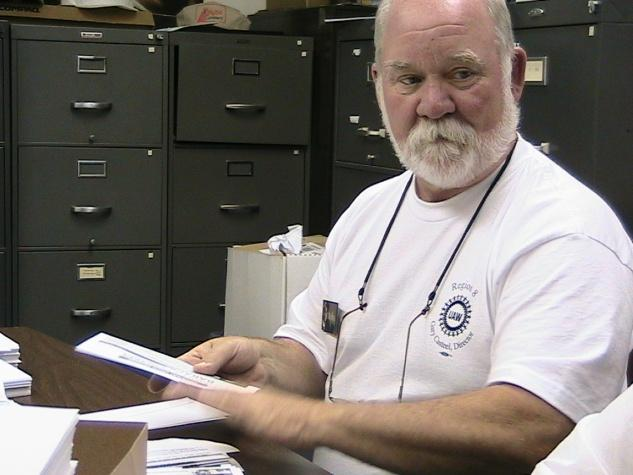Filing Cabinet: (7, 23, 168, 351), (167, 30, 312, 343)
